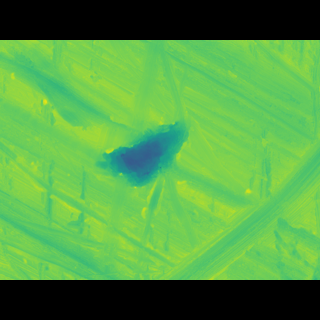Loch: (147, 142, 317, 251), (2, 183, 179, 240), (86, 125, 200, 183)
